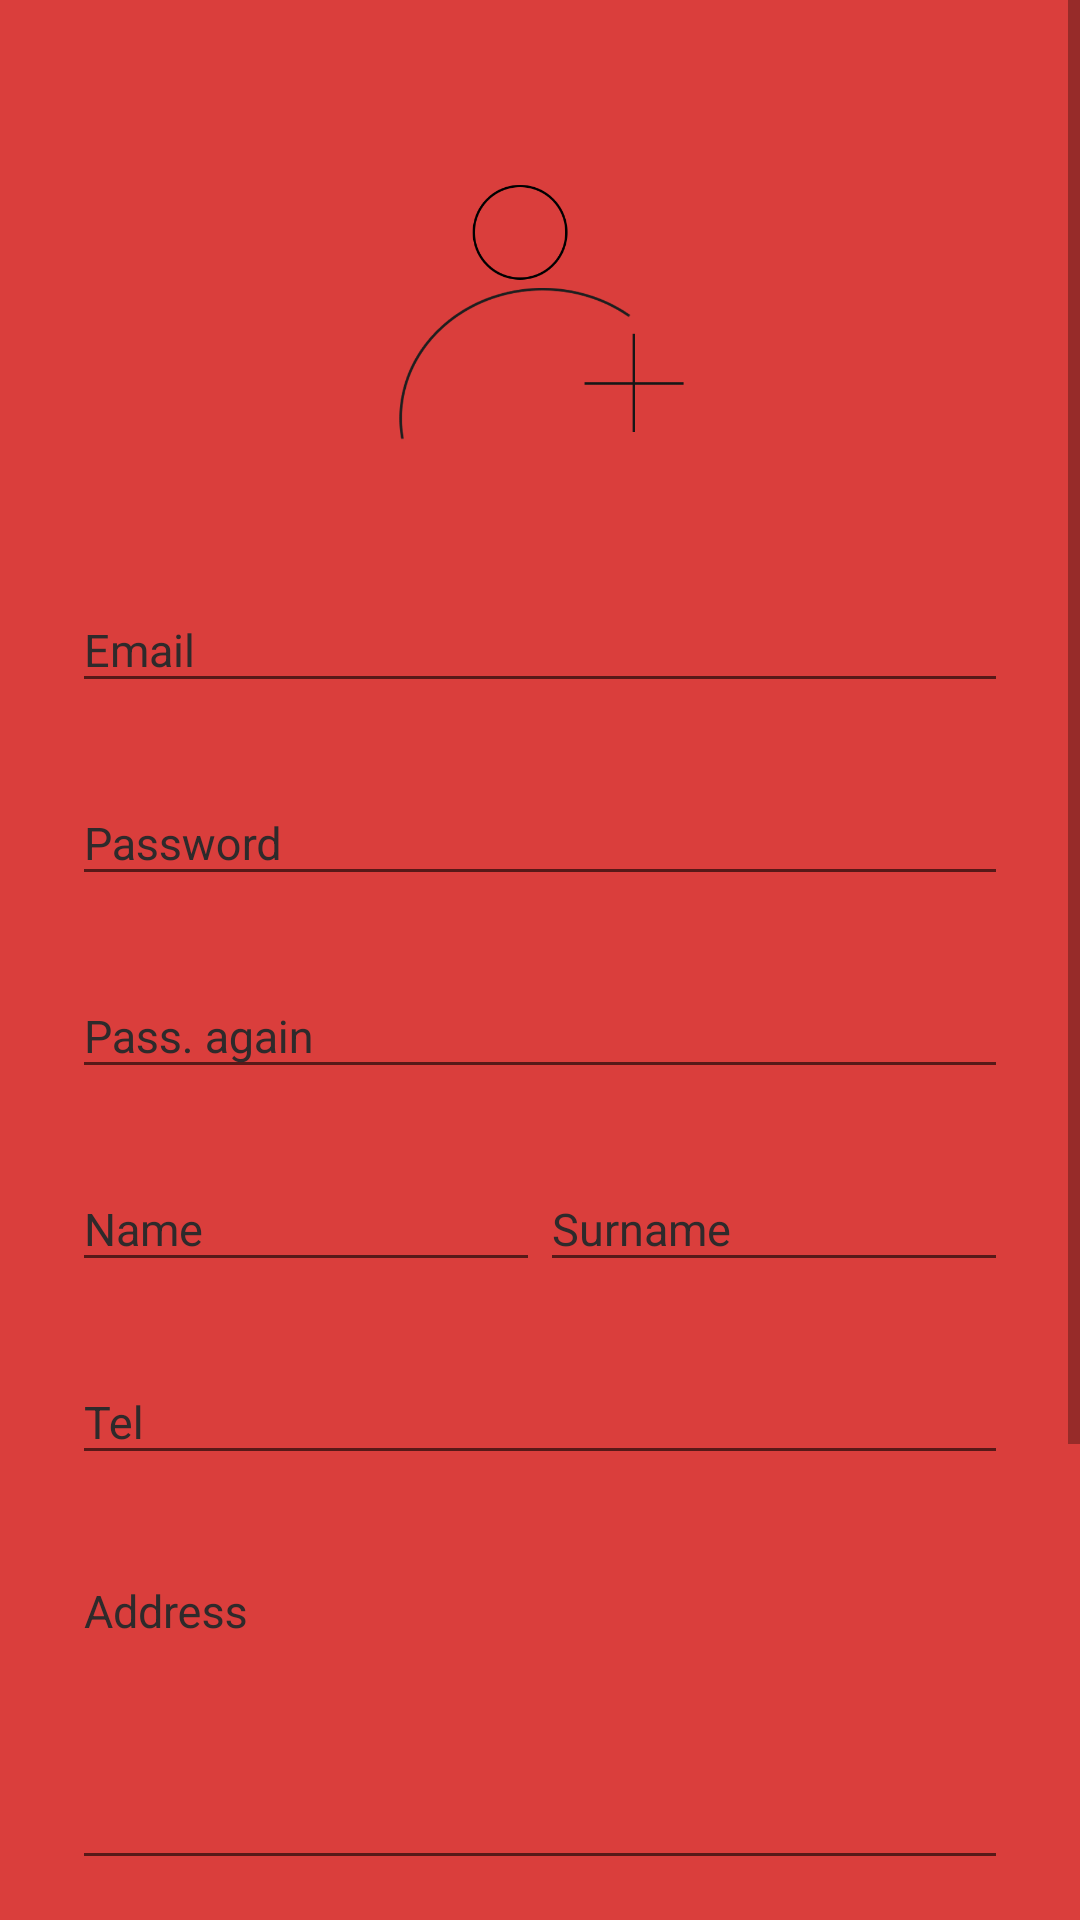

Locate icon controls on the screen. Image size 1080 x 1920, boxes as detection(x1, y1, x2, y2).
acc: detection(399, 185, 684, 439)
